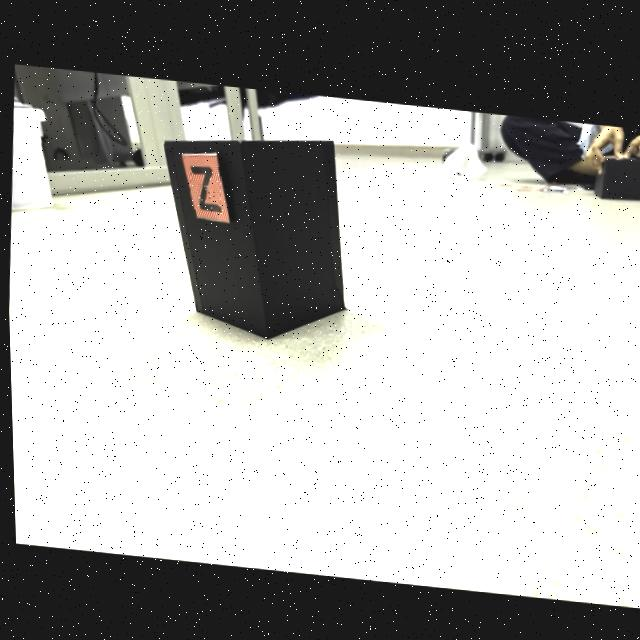Z: (190, 164, 219, 210)
